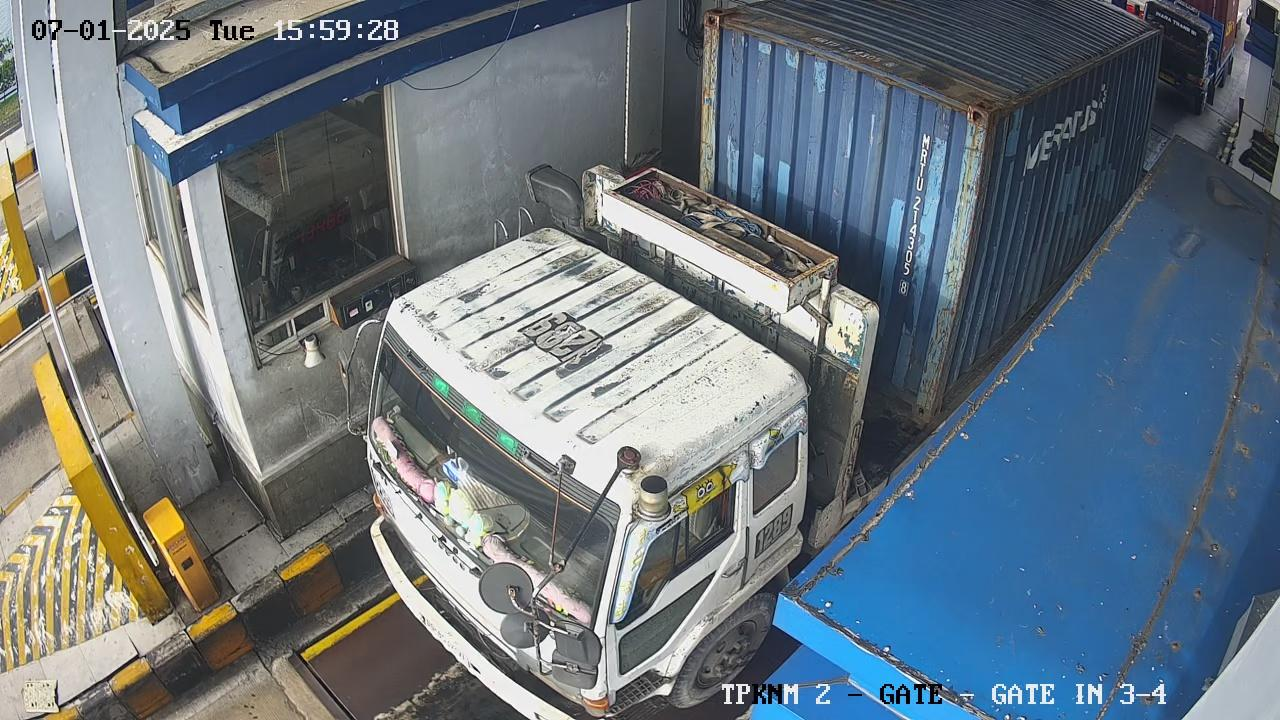Container_ID_Vertikal: (886, 132, 950, 307)
